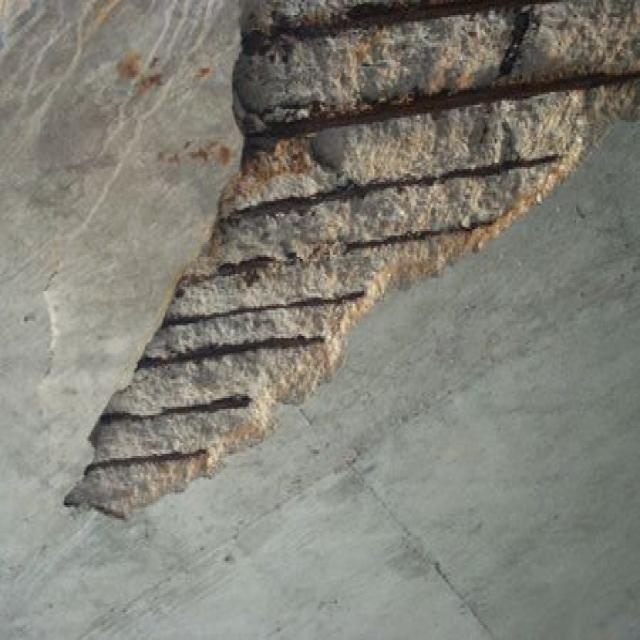crack: (271, 70, 639, 135)
spalling: (65, 0, 639, 517), (0, 0, 241, 567)
